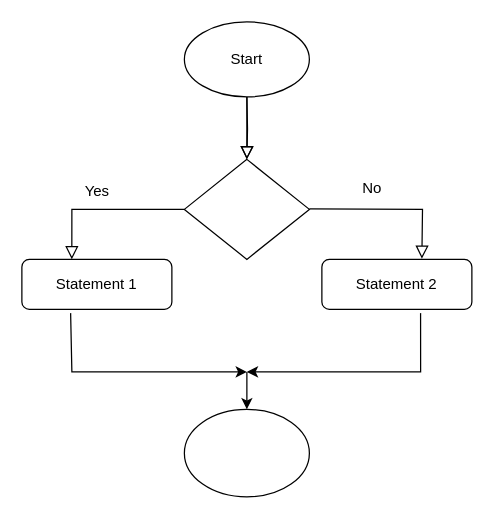
The diagram is 494 pixels wide and 519 high, and some of its shapes have lost their labels. Here are the shapes that lost their labels. From the top down, the centre of each, then its label:
At pixel 246 208: "Condition ?".
At pixel 246 452: "End".
